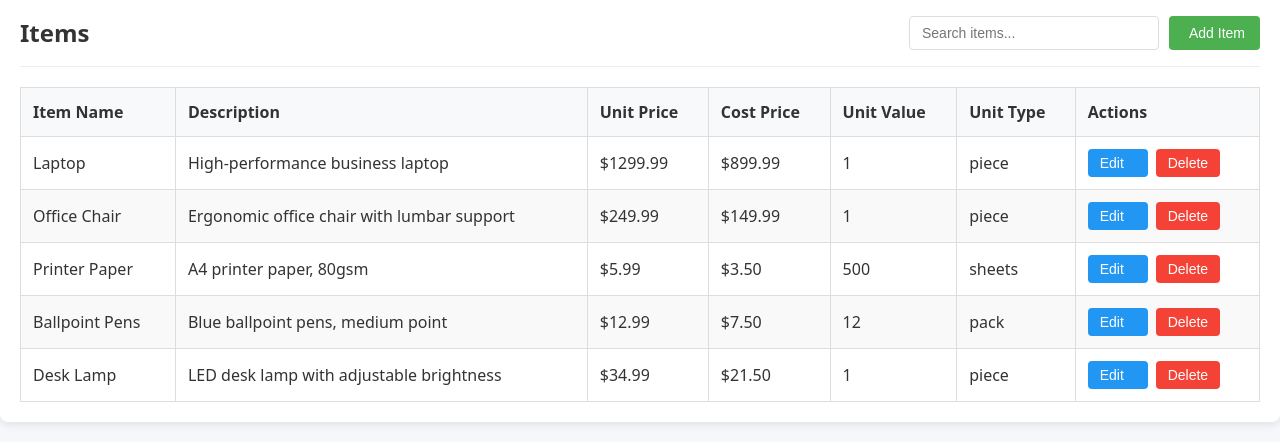
Test: ItemList Component › filters items when searching
Note: Type in search box
Type "Desk" into the field with placeholder "Search items..." at (1034, 33), box [909,16,1159,50]
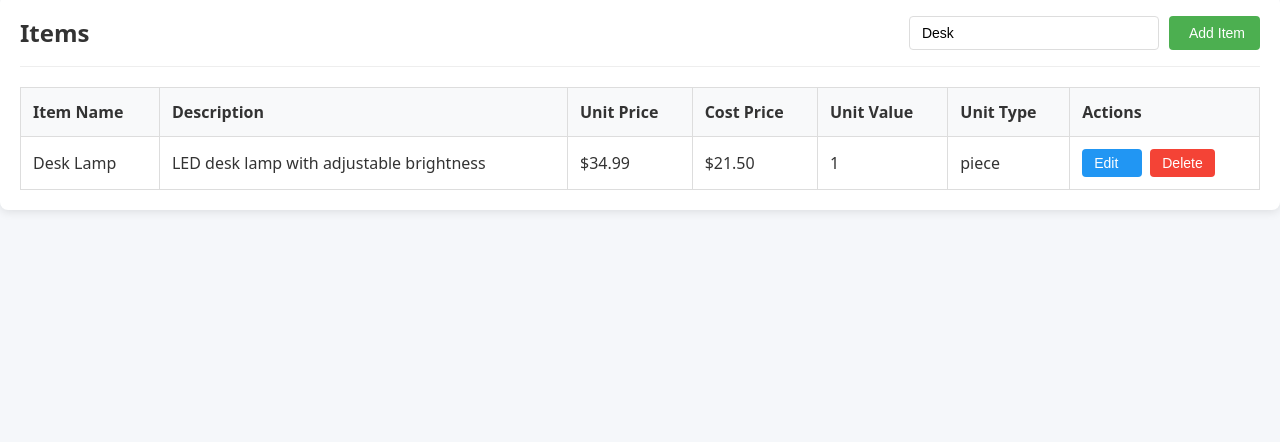
Expected: the text "Desk Lamp" is shown, [20,136,160,190]
Result: the text "Laptop" is gone
